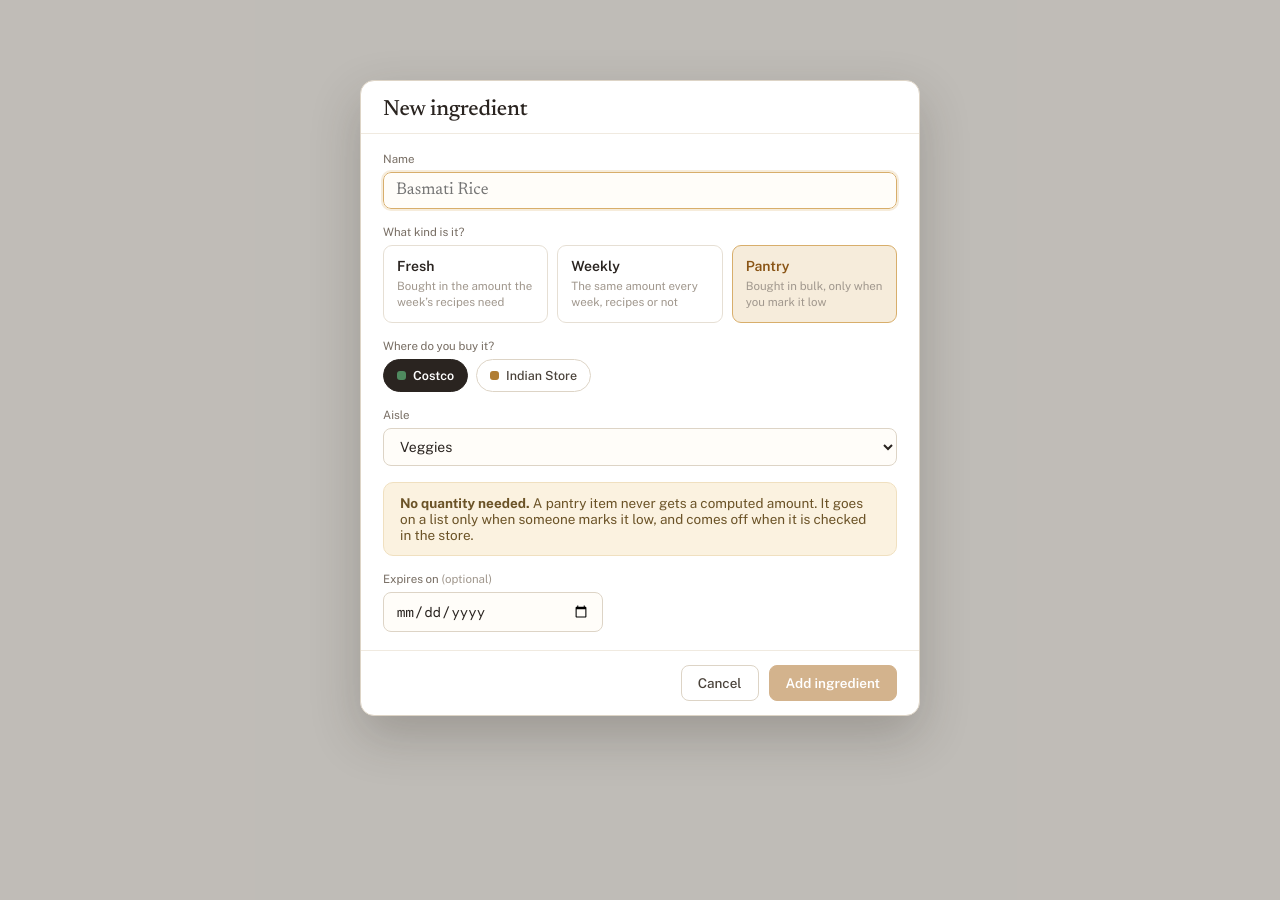
IngredientDialog › a pantry item asks for no quantity; switching to fresh reveals the units
Expected: the text "No quantity needed." is shown, [400,495,530,511]
Expected: the field labelled "Bought by" is not shown
Click the button "Fresh Bought in the amount the week’s recipes need" at (466, 284), box [383,245,548,323]
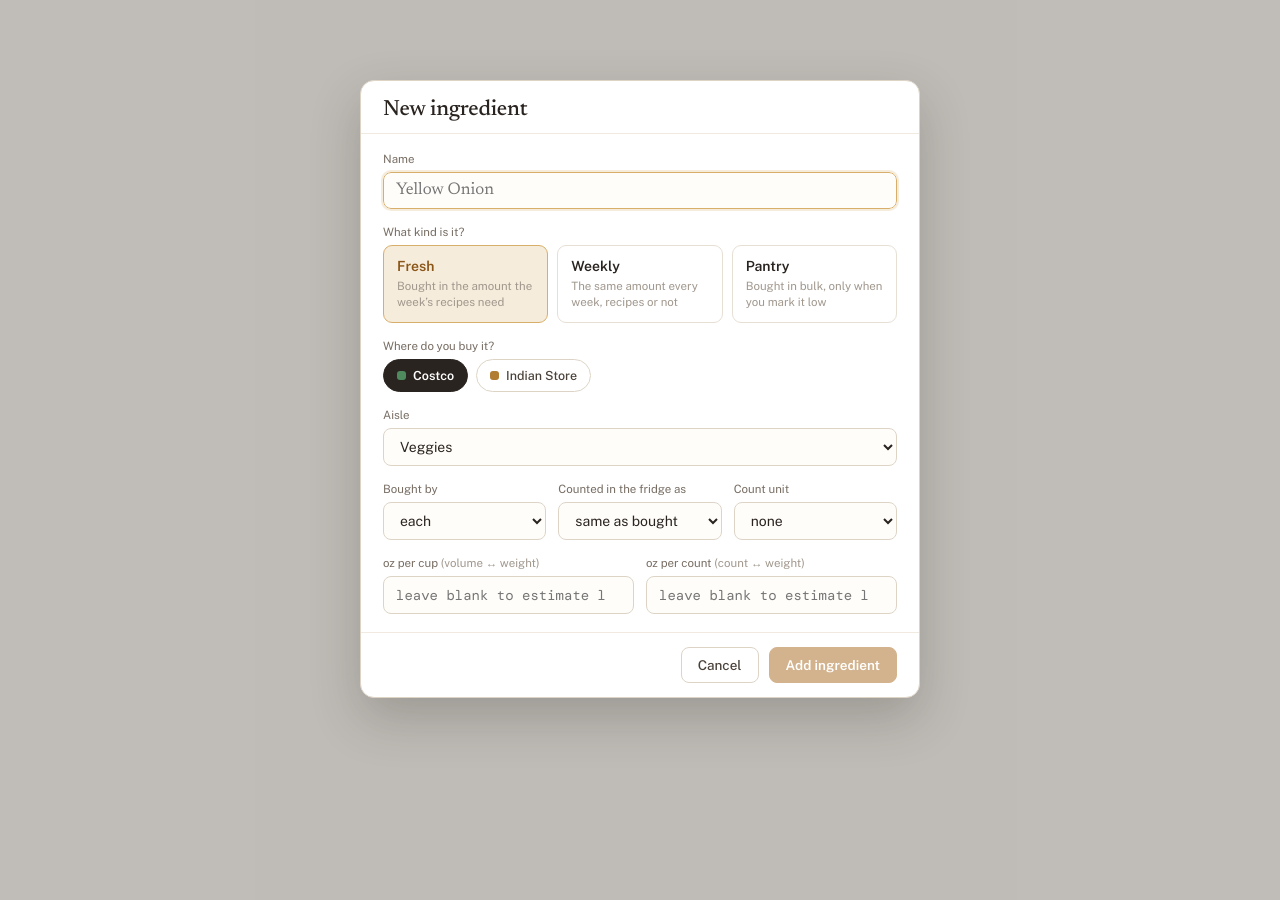
Expected: the dropdown labelled "Bought by" is shown, [383,502,546,540]
Expected: the text "No quantity needed" is gone
Click the button "Weekly The same amount every week, recipes or not" at (640, 284), box [557,245,723,323]
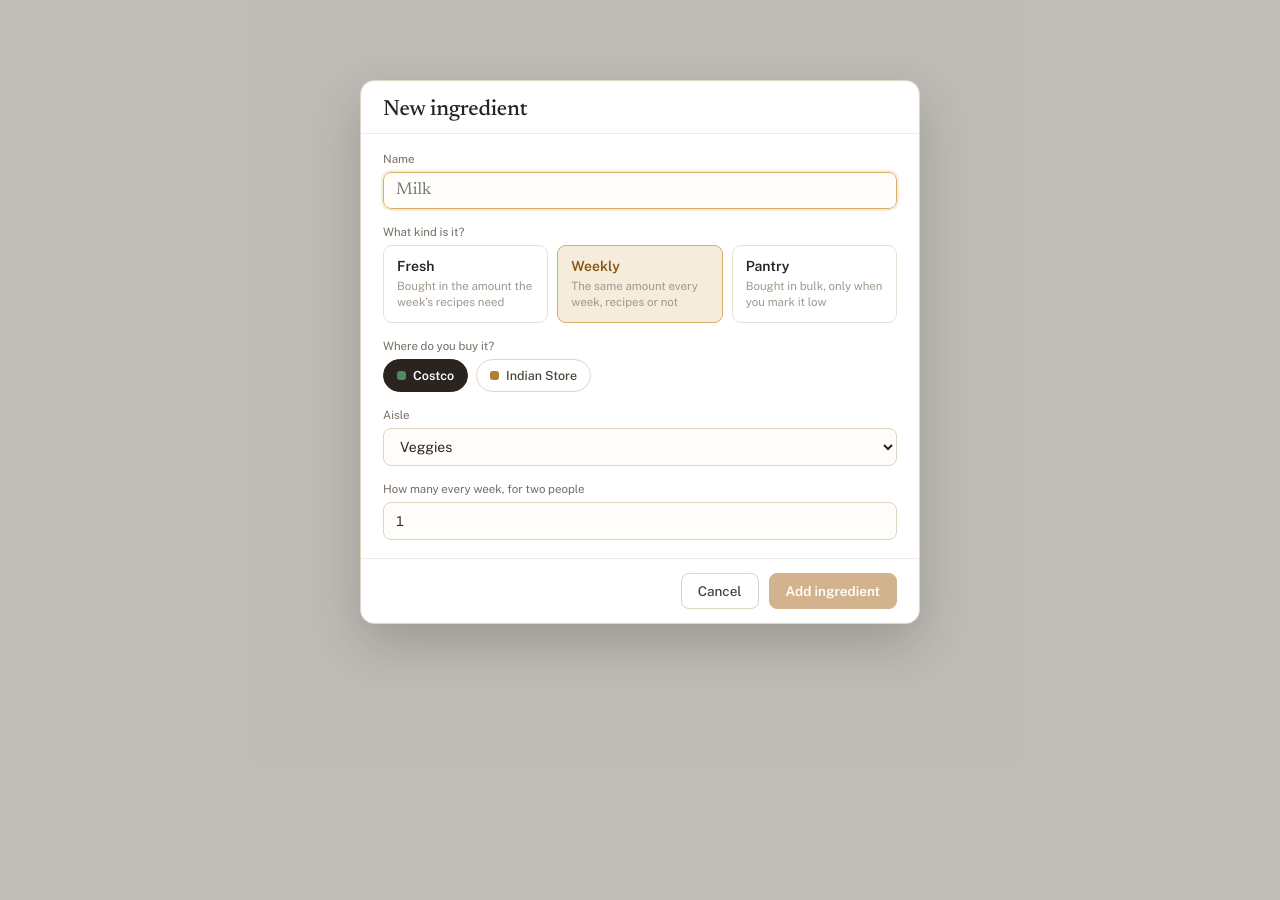
Expected: the number field labelled "How many every week, for two people" is shown, [383,502,897,540]
